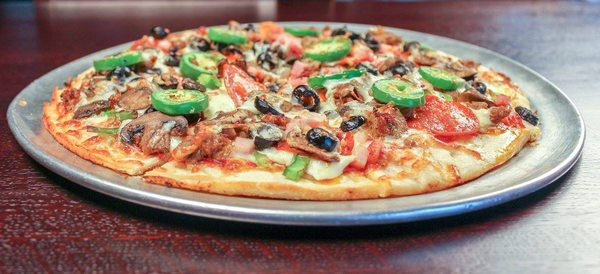curry: (69, 0, 600, 269)
sandwich: (14, 21, 550, 201)
